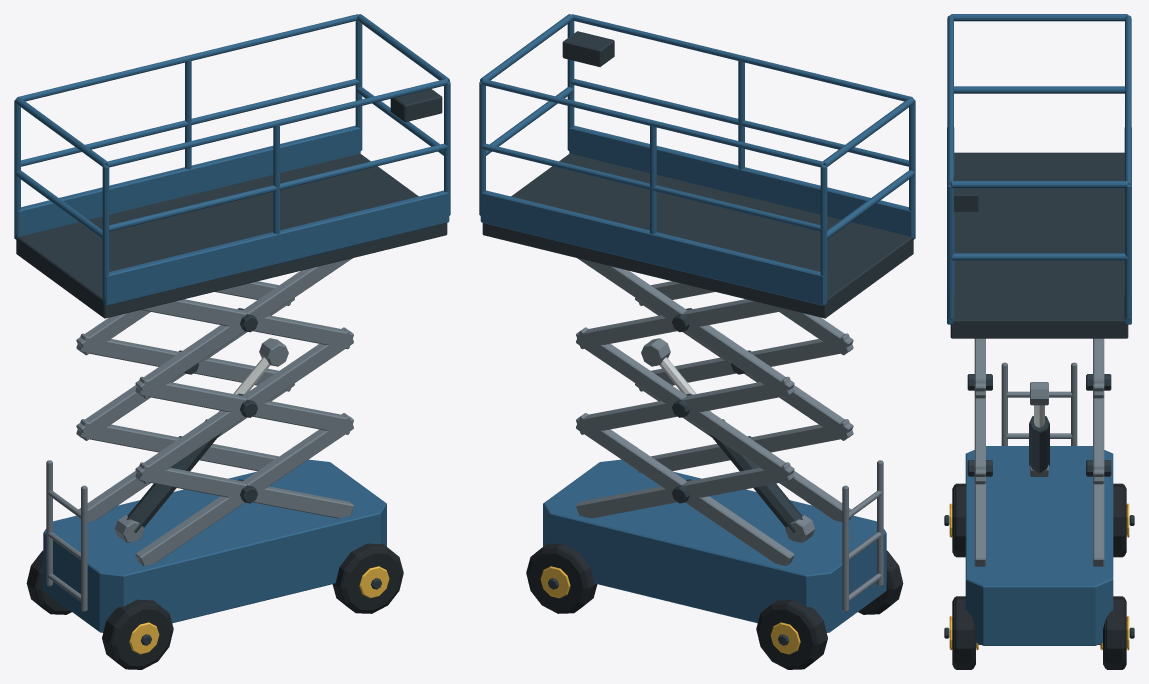
Rendered from b07_electric_scissor_lift_extended.glb.
3 views of the same model, side by side, from view 1: azimuth 30°, elevation 25°; view 2: azimuth 150°, elevation 25°; view 3: azimuth 270°, elevation 25° (orthographic).
Parts seen in each view (by area): view 1: b07_electric_scissor_lift_extended; view 2: b07_electric_scissor_lift_extended; view 3: b07_electric_scissor_lift_extended.
Boxes of the visible parts, bbox=[...] form: b07_electric_scissor_lift_extended: bbox=[14, 14, 450, 669]; b07_electric_scissor_lift_extended: bbox=[479, 14, 915, 669]; b07_electric_scissor_lift_extended: bbox=[944, 14, 1134, 669].
Size of the model in its own units: 2.72 by 3.88 by 1.28.
